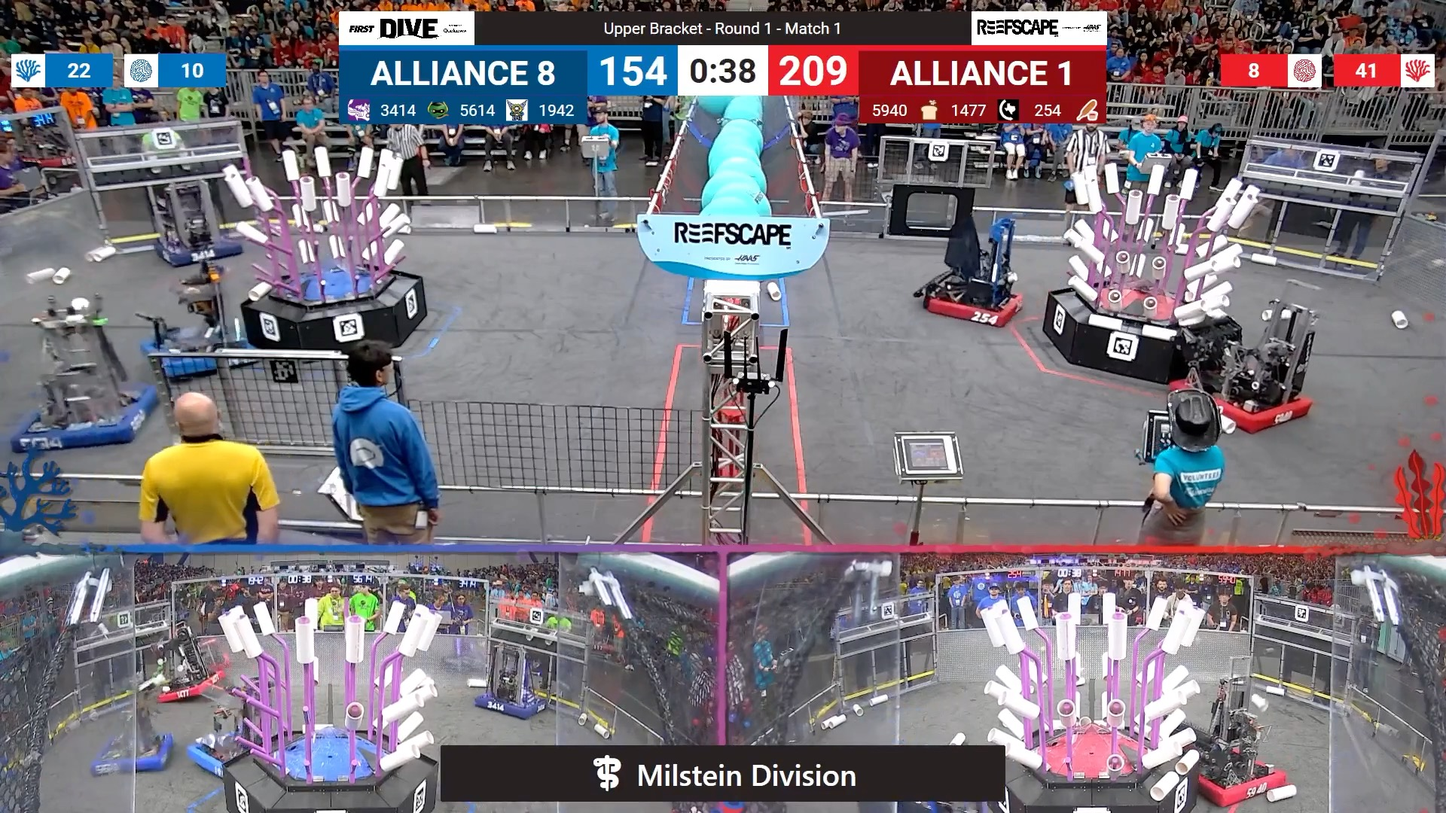bumpers: (2, 385, 166, 460), (1172, 372, 1326, 439), (133, 327, 259, 381), (1174, 751, 1295, 807), (916, 282, 1032, 332), (84, 729, 180, 779), (152, 234, 258, 268), (467, 687, 551, 724), (154, 678, 221, 703)
